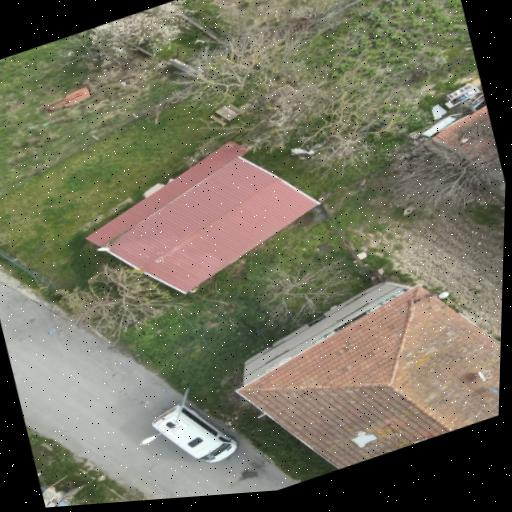car: (152, 403, 237, 461)
